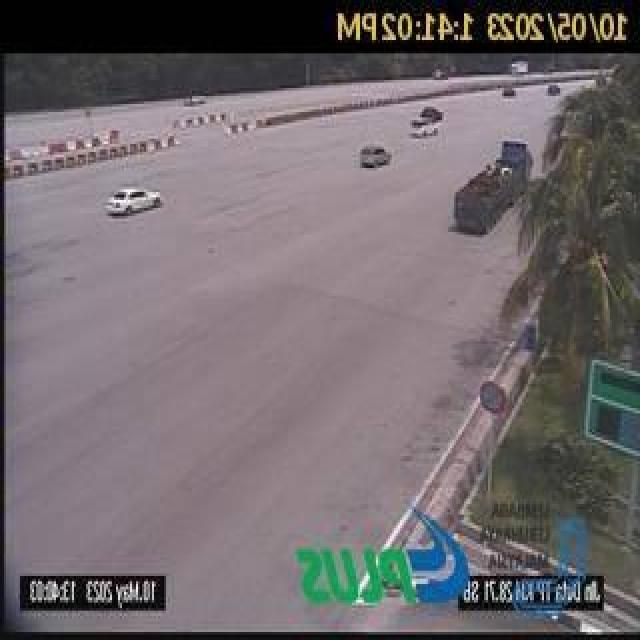Car: (104, 184, 163, 218), (359, 146, 392, 169), (409, 117, 439, 140), (420, 105, 444, 124), (546, 83, 562, 97), (502, 85, 517, 98)
Truck: (455, 138, 532, 236)
